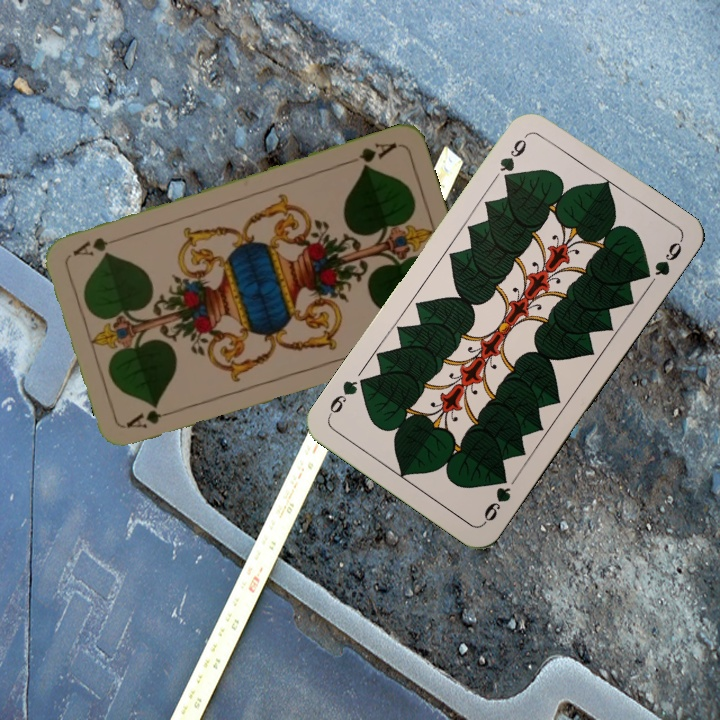G9: (479, 469, 514, 527), (495, 130, 531, 186)
GA: (342, 138, 400, 171), (122, 405, 181, 432)
